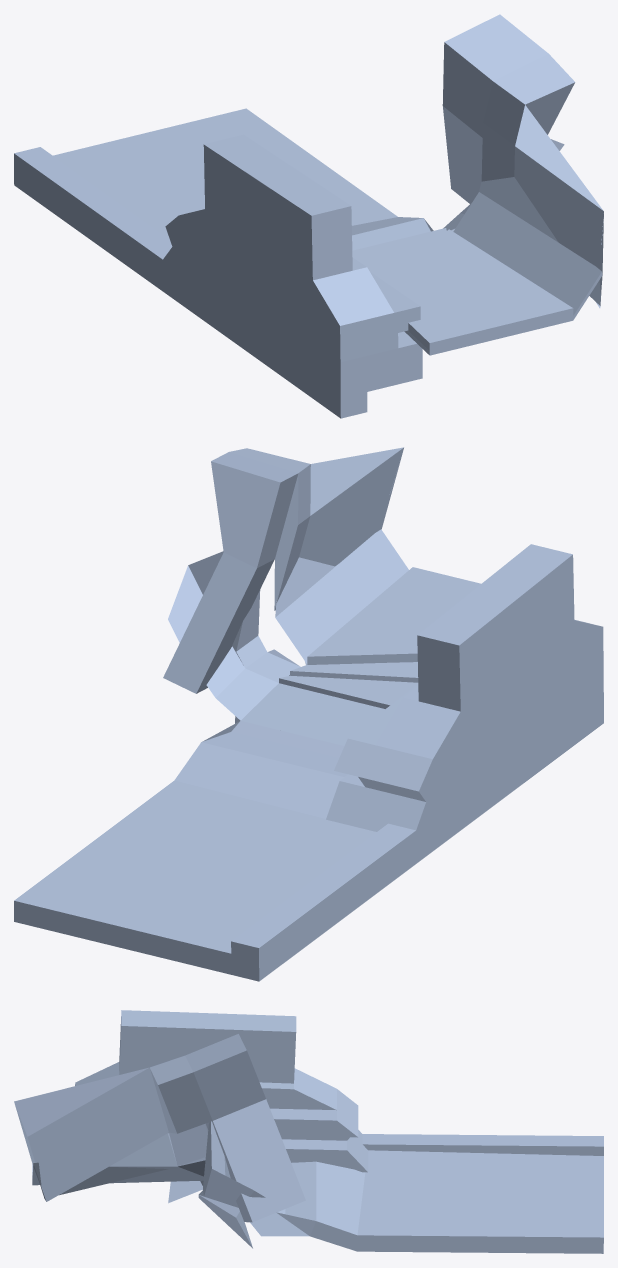
File: scifi.glb
3 renders of one model, top to bottom at view 1: azimuth 30°, elevation 25°; view 2: azimuth 150°, elevation 25°; view 3: azimuth 270°, elevation 25°, orthographic. The views are drawn at different scales.
Visible parts, largest first — view 1: Cube.001; view 2: Cube.001; view 3: Cube.001.
Boxes of the visible parts, <box> form: Cube.001: <box>14,14,603,418</box>; Cube.001: <box>14,447,603,981</box>; Cube.001: <box>14,1010,603,1253</box>.
Bounding box in the file's own units: 35.71 × 29.51 × 72.83.
